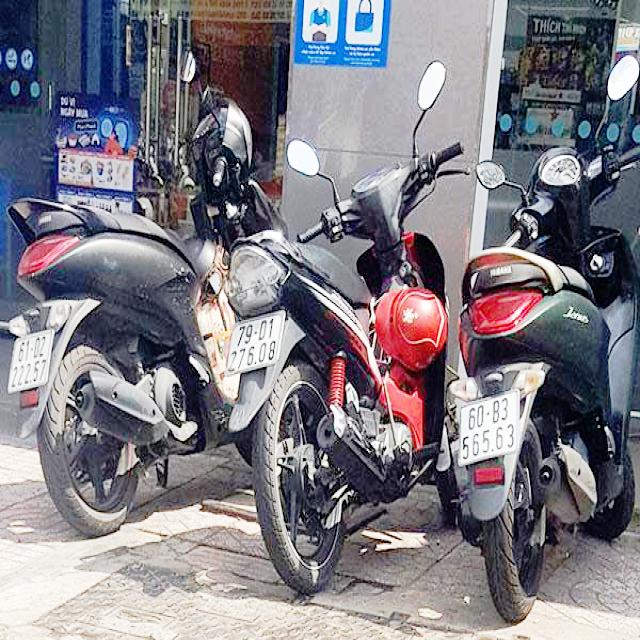license_plate: (460, 391, 519, 467), (225, 315, 284, 376), (8, 335, 55, 394)
